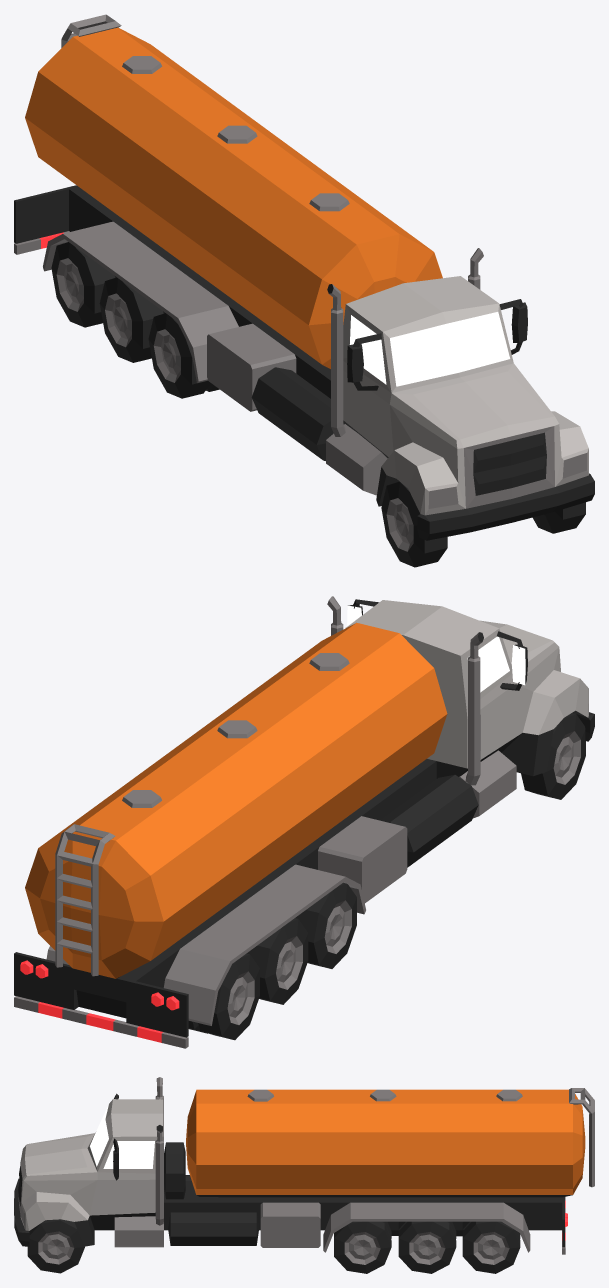
The model's file is vehicles-car-truck-tanker.glb.
3 renders of one model, top to bottom at view 1: azimuth 30°, elevation 25°; view 2: azimuth 150°, elevation 25°; view 3: azimuth 270°, elevation 25°, orthographic. The views are drawn at different scales.
Visible parts, largest first — view 1: car-truck-tanker-base, car-truck-tanker-wheel_BR2, car-truck-tanker-wheel_BR3, car-truck-tanker-wheel_BR1, car-truck-tanker-wheel_FR, car-truck-tanker-wheel_FL; view 2: car-truck-tanker-base, car-truck-tanker-wheel_BR1, car-truck-tanker-wheel_BR2, car-truck-tanker-wheel_BR3, car-truck-tanker-wheel_FR; view 3: car-truck-tanker-base, car-truck-tanker-wheel_BL2, car-truck-tanker-wheel_BL3, car-truck-tanker-wheel_BL1, car-truck-tanker-wheel_FL.
Part boxes in pixels (x1,y1,x2,y2): car-truck-tanker-base: (14, 14, 594, 540); car-truck-tanker-wheel_BR2: (99, 277, 164, 362); car-truck-tanker-wheel_BR3: (51, 242, 116, 327); car-truck-tanker-wheel_BR1: (148, 313, 219, 398); car-truck-tanker-wheel_FR: (381, 481, 447, 567); car-truck-tanker-wheel_FL: (532, 502, 585, 533); car-truck-tanker-base: (14, 596, 594, 1048); car-truck-tanker-wheel_BR1: (295, 882, 356, 968); car-truck-tanker-wheel_BR2: (247, 918, 308, 1004); car-truck-tanker-wheel_BR3: (188, 953, 259, 1040); car-truck-tanker-wheel_FR: (521, 713, 585, 799); car-truck-tanker-base: (14, 1077, 594, 1254); car-truck-tanker-wheel_BL2: (398, 1221, 456, 1273); car-truck-tanker-wheel_BL3: (462, 1221, 520, 1273); car-truck-tanker-wheel_BL1: (334, 1221, 391, 1273); car-truck-tanker-wheel_FL: (27, 1219, 84, 1273).
Bounding box in the file's own units: 2.57 × 3.2 × 10.9.
